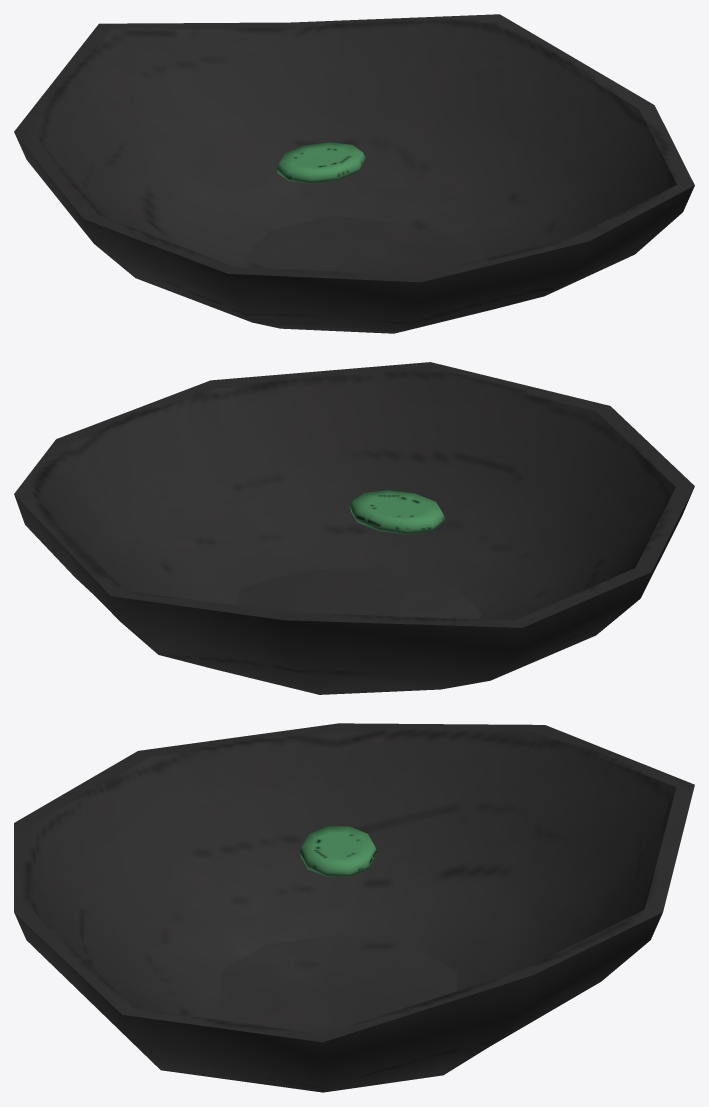
The model's file is Mintbowl & Mint.fbx.
3 views of the same model, one above another, from view 1: azimuth 30°, elevation 25°; view 2: azimuth 150°, elevation 25°; view 3: azimuth 270°, elevation 25° (orthographic). The views are drawn at different scales.
Visible parts, largest first — view 1: Mint_bowl, Mint; view 2: Mint_bowl, Mint; view 3: Mint_bowl, Mint.
Boxes of the visible parts, bbox=[...] form: Mint_bowl: bbox=[14, 14, 694, 333]; Mint: bbox=[276, 142, 365, 183]; Mint_bowl: bbox=[14, 362, 694, 694]; Mint: bbox=[349, 490, 445, 534]; Mint_bowl: bbox=[14, 723, 694, 1092]; Mint: bbox=[300, 826, 377, 876].
Bounding box in the file's own units: 42.87 × 11.95 × 41.29.
